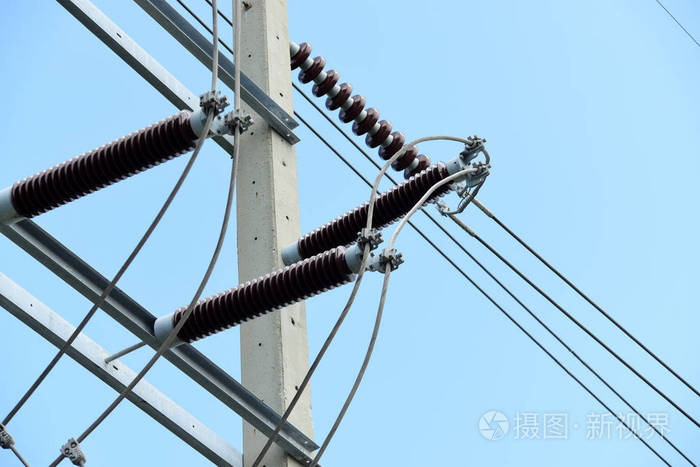insulator: (292, 40, 426, 175)
